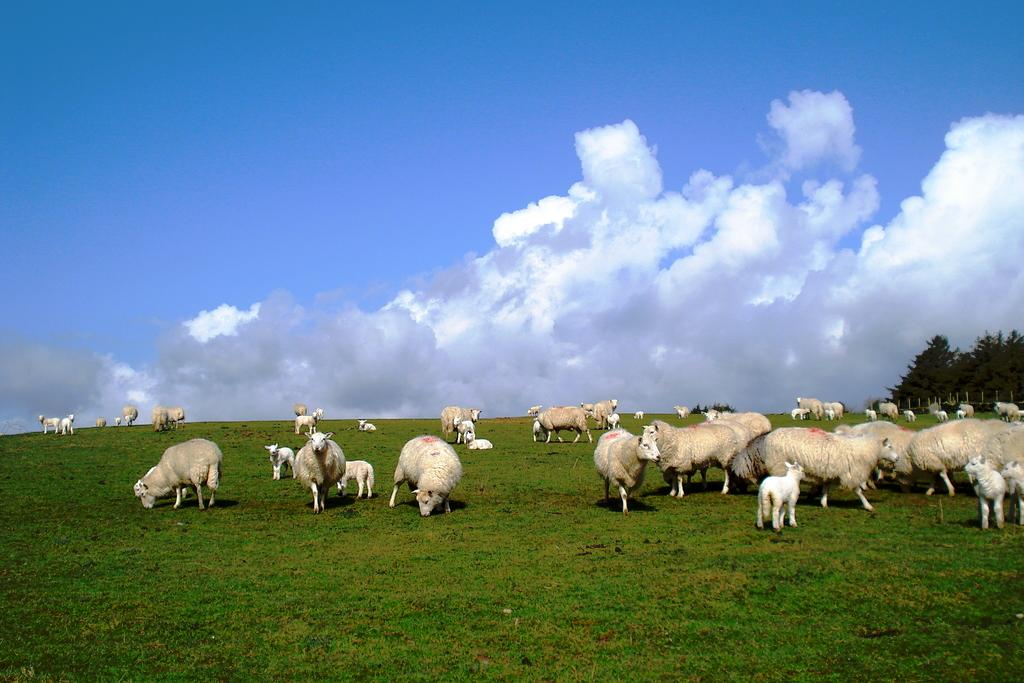Sheep: (765, 417, 904, 526), (887, 414, 1024, 501), (644, 420, 738, 497), (388, 432, 467, 521), (141, 442, 224, 516), (593, 429, 659, 519), (749, 461, 808, 548), (294, 433, 338, 515), (961, 456, 1006, 530), (528, 410, 596, 446), (1000, 443, 1024, 522), (339, 456, 374, 507), (131, 470, 194, 498), (261, 438, 296, 483), (440, 388, 484, 421), (462, 430, 499, 459), (594, 394, 619, 430), (821, 394, 852, 422), (796, 394, 826, 422), (986, 399, 1024, 420), (169, 400, 194, 430), (37, 412, 60, 444), (669, 396, 697, 422), (297, 412, 326, 436), (450, 418, 478, 440), (354, 415, 382, 437), (873, 401, 902, 419), (88, 415, 111, 436), (124, 404, 140, 433), (61, 412, 76, 438), (151, 413, 167, 437), (291, 398, 310, 417), (902, 404, 919, 425), (931, 407, 950, 425), (787, 407, 813, 420), (634, 403, 647, 425), (955, 399, 974, 414), (607, 411, 621, 430), (113, 410, 124, 434), (315, 400, 327, 420), (824, 408, 839, 422), (865, 405, 877, 421), (955, 407, 968, 421)
